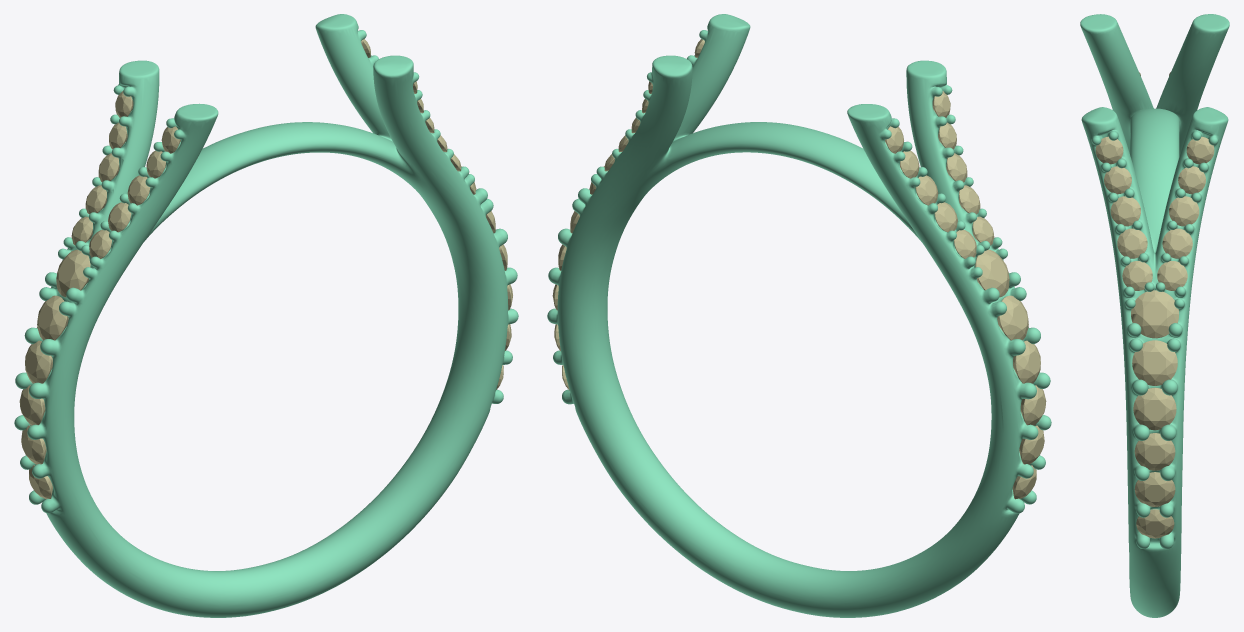
3 renders of one model, left to right at view 1: azimuth 30°, elevation 25°; view 2: azimuth 150°, elevation 25°; view 3: azimuth 270°, elevation 25°, orthographic. The views are drawn at different scales.
Parts seen in each view (by area): view 1: Metal02, Diamond_Gem.031, Diamond_Gem.030, Diamond_Gem.029; view 2: Metal02, Diamond_Gem.031, Diamond_Gem.030, Diamond_Gem.029; view 3: Metal02, Diamond_Gem, Diamond_Gem.001, Diamond_Gem.002, Diamond_Gem.004, Diamond_Gem.003, Diamond_Gem.005, Diamond_Gem.007, Diamond_Gem.014, Diamond_Gem.008, Diamond_Gem.013, Diamond_Gem.006 (+5 smaller).
Boxes of the visible parts, x1=… form: Metal02: x1=14, y1=14, x2=518, y2=617; Diamond_Gem.031: x1=56, y1=249, x2=90, y2=297; Diamond_Gem.030: x1=37, y1=295, x2=68, y2=340; Diamond_Gem.029: x1=25, y1=340, x2=52, y2=383; Metal02: x1=547, y1=14, x2=1051, y2=617; Diamond_Gem.031: x1=975, y1=249, x2=1009, y2=297; Diamond_Gem.030: x1=997, y1=295, x2=1028, y2=340; Diamond_Gem.029: x1=1013, y1=340, x2=1040, y2=383; Metal02: x1=1080, y1=14, x2=1229, y2=617; Diamond_Gem: x1=1131, y1=290, x2=1179, y2=338; Diamond_Gem.001: x1=1132, y1=340, x2=1177, y2=385; Diamond_Gem.002: x1=1133, y1=387, x2=1176, y2=430; Diamond_Gem.004: x1=1134, y1=433, x2=1175, y2=470; Diamond_Gem.003: x1=1134, y1=472, x2=1175, y2=506; Diamond_Gem.005: x1=1136, y1=509, x2=1174, y2=538; Diamond_Gem.007: x1=1162, y1=228, x2=1192, y2=258; Diamond_Gem.014: x1=1117, y1=228, x2=1147, y2=258; Diamond_Gem.008: x1=1169, y1=196, x2=1199, y2=226; Diamond_Gem.013: x1=1110, y1=196, x2=1140, y2=226; Diamond_Gem.006: x1=1157, y1=261, x2=1187, y2=290.
Bounding box in the file's own units: 21.5 × 22.84 × 5.9.
